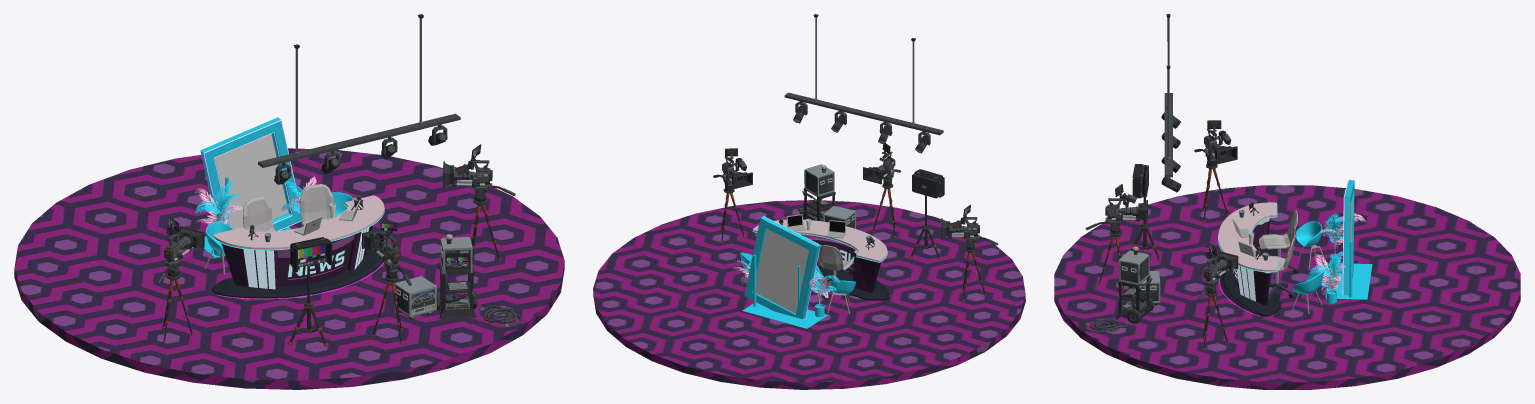
The model's file is LTTV_Set2.glb.
The picture shows the model from 3 angles, left to right: view 1: azimuth 30°, elevation 25°; view 2: azimuth 150°, elevation 25°; view 3: azimuth 270°, elevation 25°; orthographic projection. The views are drawn at different scales.
Parts seen in each view (by area): view 1: Floor.002, NewsDesk, Content_Screen, Countertop - even width, SM_Prop_Light_Spotlight_02, Frame_Color_1_0, SM_Prop_Trolley_02_Insert_02, SM_Prop_Trolley_03 (1), DeskChair.001, Camera.002, Camera.001, DeskChair (+5 smaller); view 2: Floor.002, Content_Screen, Frame_Color_1_0, NewsDesk, SM_Prop_Light_Spotlight_02, Countertop - even width, SM_Prop_Trolley_02_Insert_02, Floor, SM_Prop_Monitor_02, DeskChair, Camera.001, Camera.002 (+2 smaller); view 3: Floor.002, NewsDesk, Countertop - even width, SM_Prop_Trolley_02_Insert_02, SM_Prop_Light_Spotlight_02, Frame_Color_1_0, Floor, Camera, DeskChair, Camera.002, Camera.001, SM_Prop_Trolley_02 (2) (+6 smaller).
Boxes of the visible parts, bbox=[...] form: Floor.002: bbox=[14, 148, 564, 389]; NewsDesk: bbox=[212, 225, 385, 298]; Content_Screen: bbox=[215, 134, 288, 229]; Countertop - even width: bbox=[213, 195, 384, 250]; SM_Prop_Light_Spotlight_02: bbox=[258, 14, 460, 181]; Frame_Color_1_0: bbox=[200, 117, 301, 231]; SM_Prop_Trolley_02_Insert_02: bbox=[440, 236, 472, 309]; SM_Prop_Trolley_03 (1): bbox=[394, 276, 436, 319]; DeskChair.001: bbox=[300, 184, 333, 225]; Camera.002: bbox=[442, 158, 492, 188]; Camera.001: bbox=[164, 226, 204, 266]; DeskChair: bbox=[243, 197, 275, 231]; Floor.002: bbox=[593, 200, 1025, 389]; Content_Screen: bbox=[756, 229, 808, 313]; Frame_Color_1_0: bbox=[744, 216, 820, 319]; NewsDesk: bbox=[800, 234, 890, 300]; SM_Prop_Light_Spotlight_02: bbox=[784, 14, 943, 145]; Countertop - even width: bbox=[752, 219, 887, 262]; SM_Prop_Trolley_02_Insert_02: bbox=[804, 164, 834, 220]; Floor: bbox=[742, 302, 827, 328]; SM_Prop_Monitor_02: bbox=[912, 169, 944, 198]; DeskChair: bbox=[817, 245, 853, 298]; Camera.001: bbox=[941, 215, 979, 239]; Camera.002: bbox=[722, 156, 752, 188]; Floor.002: bbox=[1054, 185, 1520, 389]; NewsDesk: bbox=[1220, 218, 1281, 316]; Countertop - even width: bbox=[1218, 202, 1276, 272]; SM_Prop_Trolley_02_Insert_02: bbox=[1119, 250, 1149, 315]; SM_Prop_Light_Spotlight_02: bbox=[1164, 14, 1172, 187]; Frame_Color_1_0: bbox=[1343, 180, 1354, 295]; Floor: bbox=[1325, 263, 1372, 299]; Camera: bbox=[1105, 196, 1147, 222]; DeskChair: bbox=[1259, 210, 1298, 278]; Camera.002: bbox=[1203, 251, 1238, 284]; Camera.001: bbox=[1204, 129, 1237, 164]; SM_Prop_Trolley_02 (2): bbox=[1115, 275, 1152, 319].
Bounding box in the file's own units: 7.1 × 5.26 × 7.09.
27 materials, 11 textured.
